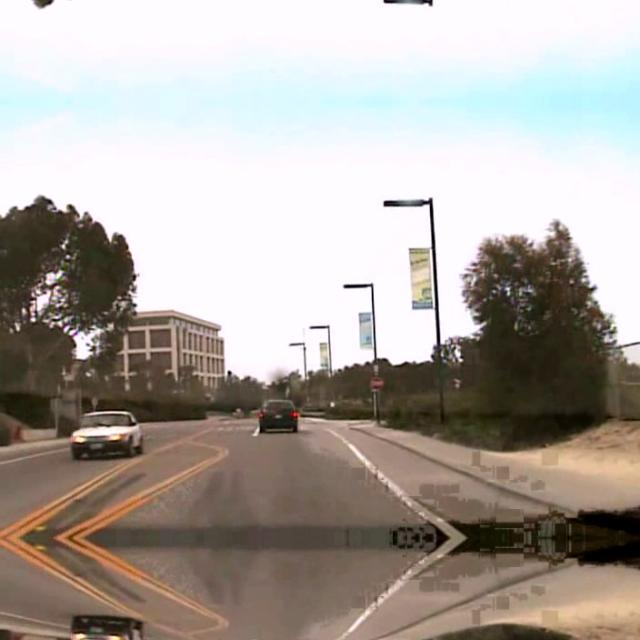stop: (369, 374, 383, 388)
